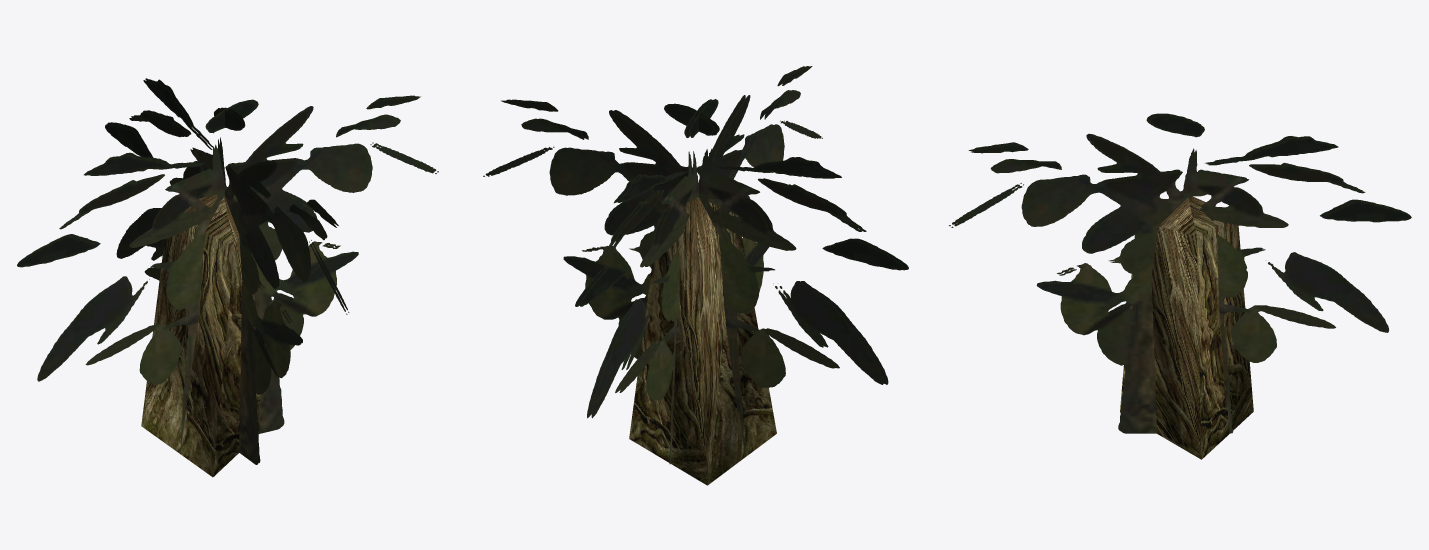
File: decd_megaleaf_l3.fbx
The picture shows the model from 3 angles, left to right: view 1: azimuth 30°, elevation 25°; view 2: azimuth 150°, elevation 25°; view 3: azimuth 270°, elevation 25°; orthographic projection. The views are drawn at different scales.
Parts seen in each view (by area): view 1: mesh_node; view 2: mesh_node; view 3: mesh_node.
Part boxes in pixels (<box>): mesh_node: <box>17,78,438,477</box>; mesh_node: <box>483,66,908,485</box>; mesh_node: <box>949,113,1411,459</box>.
Size of the model in its own units: 8.26 by 6.16 by 8.24.
